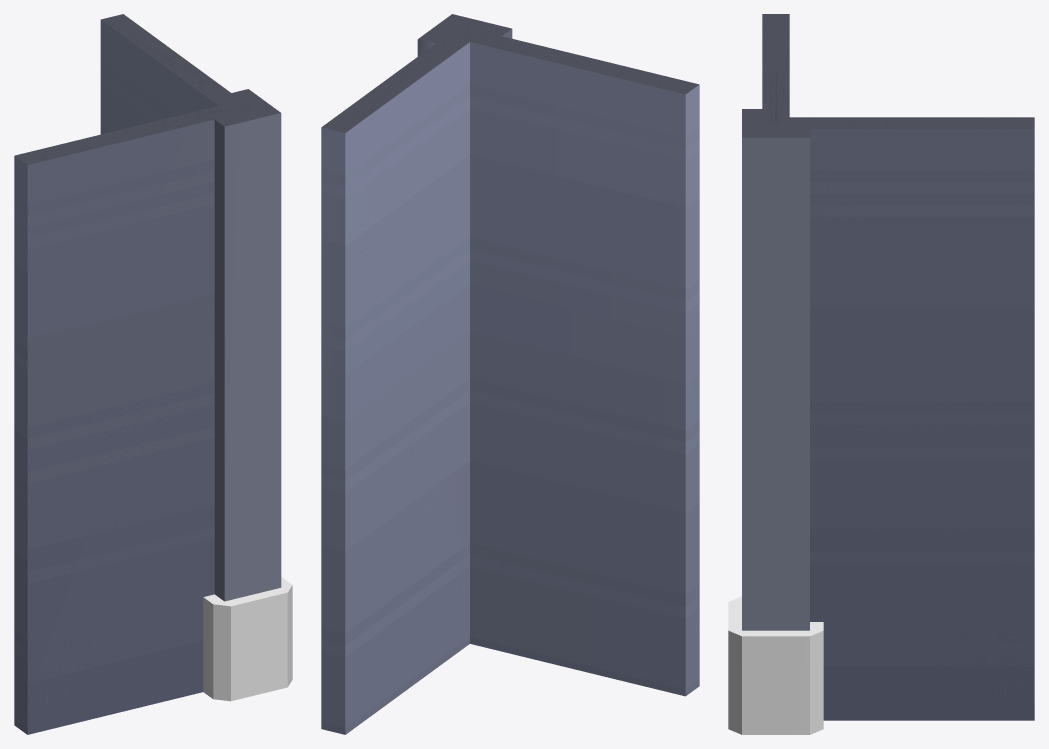
Rendered from wall-corner-column-small-bottom.glb.
3 renders of one model, left to right at view 1: azimuth 30°, elevation 25°; view 2: azimuth 150°, elevation 25°; view 3: azimuth 270°, elevation 25°, orthographic. The views are drawn at different scales.
Visible parts, largest first — view 1: wall-corner-column-small-bottom; view 2: wall-corner-column-small-bottom; view 3: wall-corner-column-small-bottom.
Boxes of the visible parts, <box> form: wall-corner-column-small-bottom: <box>14,14,292,734</box>; wall-corner-column-small-bottom: <box>321,14,699,734</box>; wall-corner-column-small-bottom: <box>728,14,1034,734</box>.
Bounding box in the file's own units: 1.13 × 2.4 × 1.13.
1 material, 1 textured.
